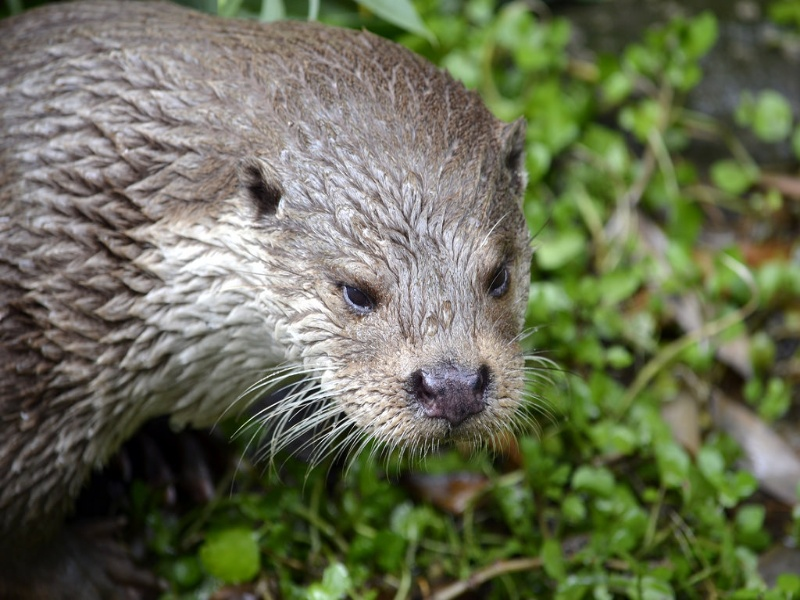minkish: (1, 1, 533, 499)
